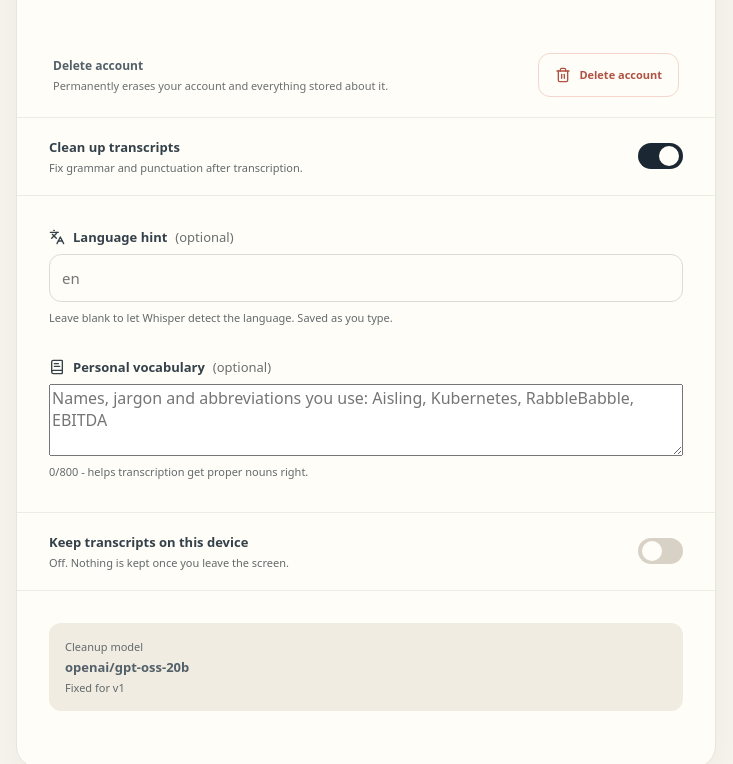
it: SettingsScreen features › keeps on-device history off unless it is asked for
The image size is (733, 764).
(page scrolled)
Expected: the button "clear history" is not shown
Step 1. Click the switch named "keep transcripts on this device" → (660, 551), box top-left (638, 538), bottom-right (683, 564)
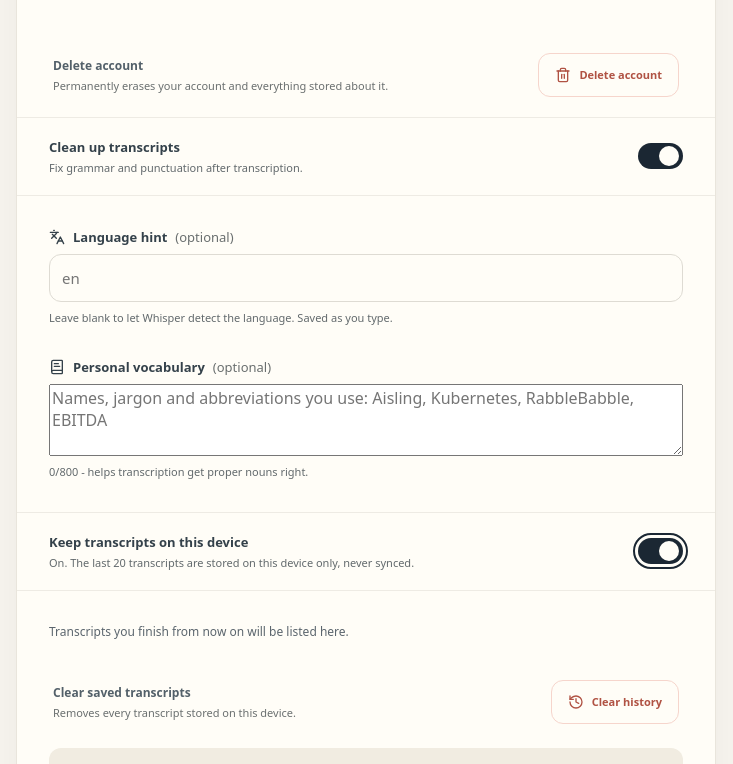
Expected: the button "Clear history" is shown, top-left (551, 680), bottom-right (679, 724)
